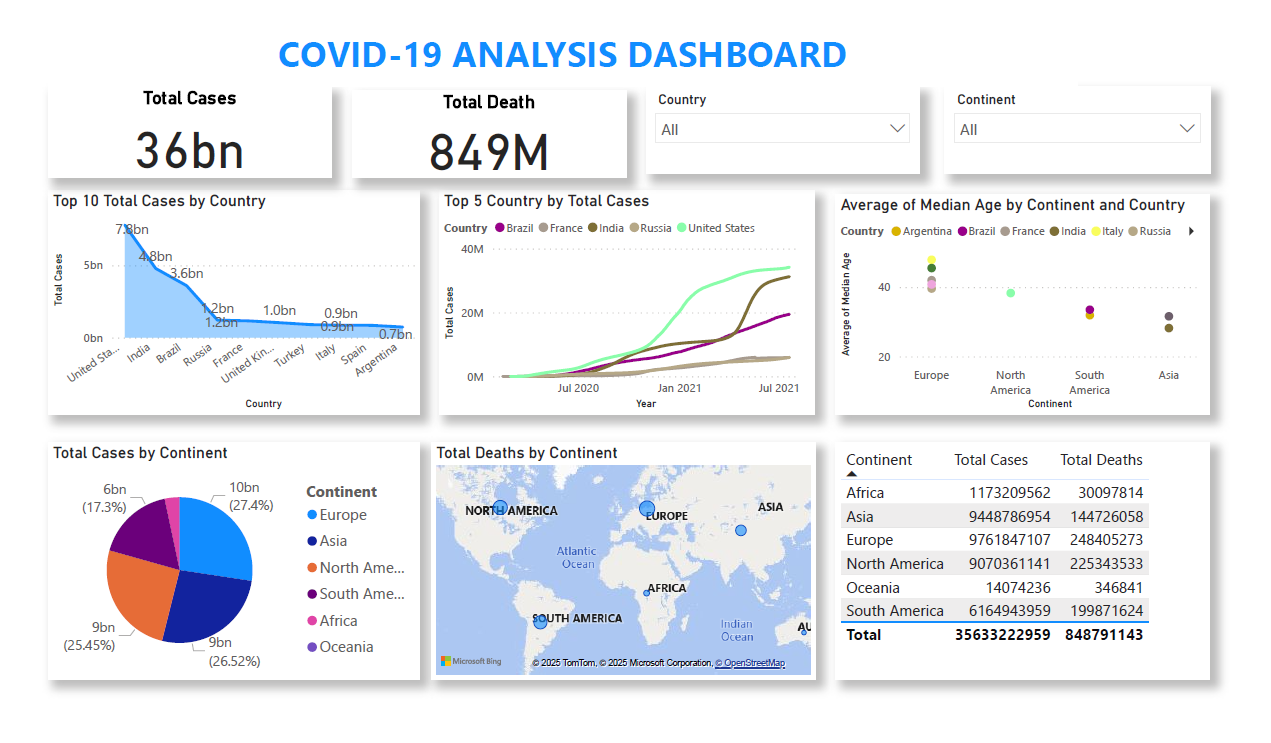

The page's visual inventory and layout, read from the dashboard file:
{"tool":"powerbi","page":{"name":"Page 1","canvas":[1280,720],"ordinal":0},"visuals":[{"type":"areaChart","title":"Top 10 Total Cases by Country","fields":{"Category":["Covid 19 clean data.Country"],"Y":["Sum(Covid 19 clean data.Total Cases)"]},"box":[27.4,175.6,392.4,236],"z":0},{"type":"pieChart","fields":{"Category":["Covid 19 clean data.Continent"],"Y":["Sum(Covid 19 clean data.Total Cases)"]},"box":[27.4,441.8,392.4,249.7],"z":1000},{"type":"lineChart","title":"Top 5 Country  by Total Cases","fields":{"Series":["Covid 19 clean data.Country"],"Category":["Covid 19 clean data.Date.Variation.Date Hierarchy.Year","Covid 19 clean data.Date.Variation.Date Hierarchy.Quarter","Covid 19 clean data.Date.Variation.Date Hierarchy.Month","Covid 19 clean data.Date.Variation.Date Hierarchy.Day"],"Y":["Sum(Covid 19 clean data.Total Cases)"]},"box":[440.4,175.6,396.5,236],"z":3000},{"type":"lineChart","fields":{"Category":["Covid 19 clean data.Continent"],"Series":["Covid 19 clean data.Country"],"Y":["Avg(Covid 19 clean data.Median Age)"]},"box":[858.8,179.7,395.1,231.9],"z":4000},{"type":"card","title":"Total Cases","fields":{"Values":["Sum(Covid 19 clean data.Total Cases)"]},"box":[27.4,65.9,299.1,96],"z":5000},{"type":"card","title":"Total Death","fields":{"Values":["Sum(Covid 19 clean data.Total Deaths)"]},"box":[348.5,70,289.5,91.9],"z":6000},{"type":"map","fields":{"Category":["Covid 19 clean data.Continent"],"Size":["Sum(Covid 19 clean data.Total Deaths)"]},"box":[432.2,441.8,404.7,249.7],"z":7000},{"type":"tableEx","fields":{"Values":["Covid 19 clean data.Continent","Sum(Covid 19 clean data.Total Cases)","Sum(Covid 19 clean data.Total Deaths)"]},"box":[858.8,441.8,395.1,249.7],"z":7001},{"type":"slicer","fields":{"Values":["Covid 19 clean data.Country"]},"box":[658.5,65.9,289.5,91.9],"z":7002},{"type":"slicer","fields":{"Values":["Covid 19 clean data.Continent"]},"box":[974.1,65.9,279.9,91.9],"z":7003},{"type":"textbox","box":[27.4,0,1086.6,65.9],"z":7004}]}

Visuals, with their boxes in screenshot pixels (x1, y1, x2, y2):
"Top 10 Total Cases by Country" areaChart: locate(52, 199, 423, 422)
pieChart - Covid 19 clean data.Continent x Sum(Covid 19 clean data.Total Cases): locate(52, 450, 423, 686)
"Top 5 Country  by Total Cases" lineChart: locate(442, 199, 817, 422)
lineChart - Covid 19 clean data.Continent x Covid 19 clean data.Country: locate(838, 203, 1211, 422)
"Total Cases" card: locate(52, 95, 335, 186)
"Total Death" card: locate(356, 99, 629, 186)
map - Covid 19 clean data.Continent x Sum(Covid 19 clean data.Total Deaths): locate(435, 450, 817, 686)
tableEx - Covid 19 clean data.Continent x Sum(Covid 19 clean data.Total Cases): locate(838, 450, 1211, 686)
slicer - Covid 19 clean data.Country: locate(648, 95, 922, 182)
slicer - Covid 19 clean data.Continent: locate(947, 95, 1211, 182)
textbox: locate(52, 33, 1079, 95)
